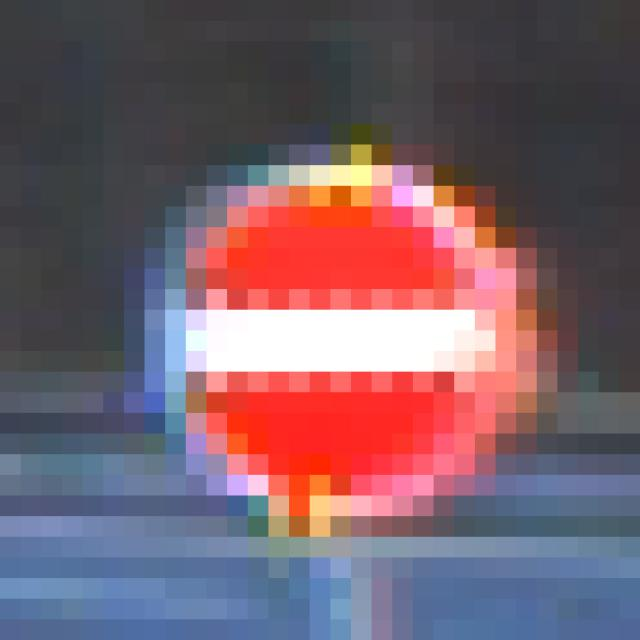No Entry: (104, 125, 538, 538)
